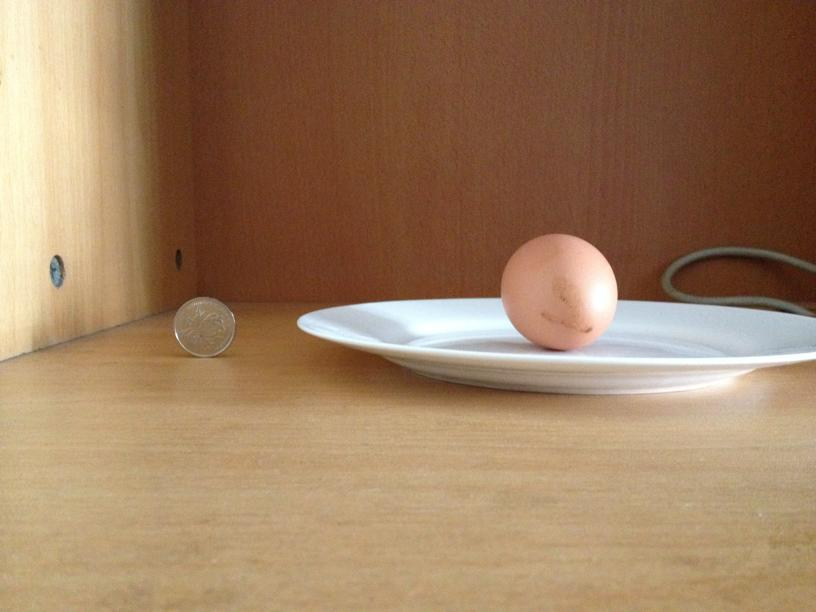coin: (171, 292, 236, 355)
egg: (496, 230, 619, 348)
